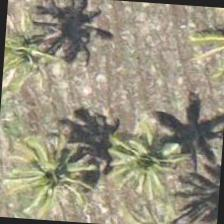Kelapa_Sawit: (104, 113, 200, 209), (7, 128, 104, 222), (1, 4, 73, 98)
